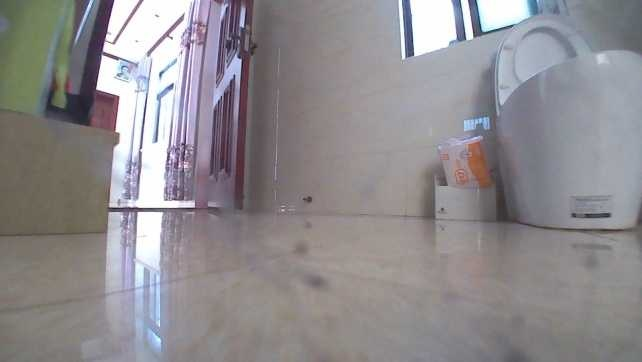door_anno: (195, 0, 255, 214)
toilet: (491, 11, 642, 235)
